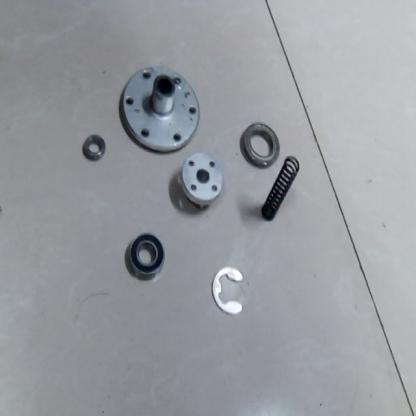FOD: (119, 61, 202, 156), (257, 154, 302, 224), (178, 152, 224, 207), (122, 229, 166, 281), (209, 266, 248, 316), (236, 121, 278, 166), (81, 131, 105, 163)
